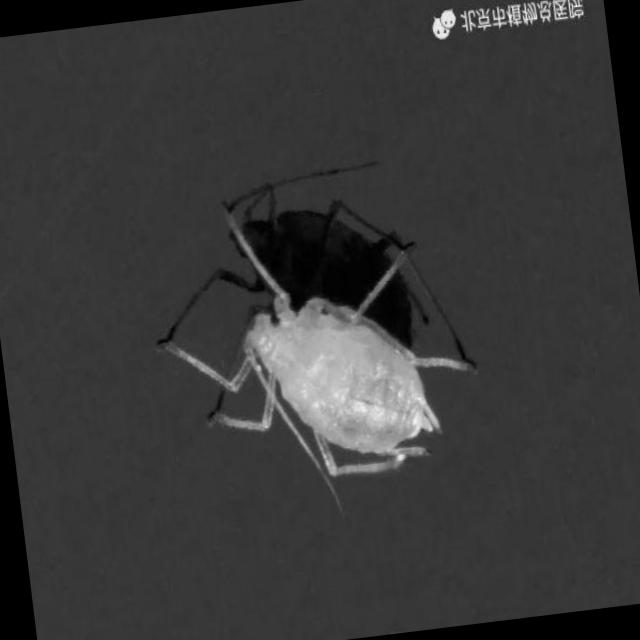Aphids: (118, 172, 523, 540)
